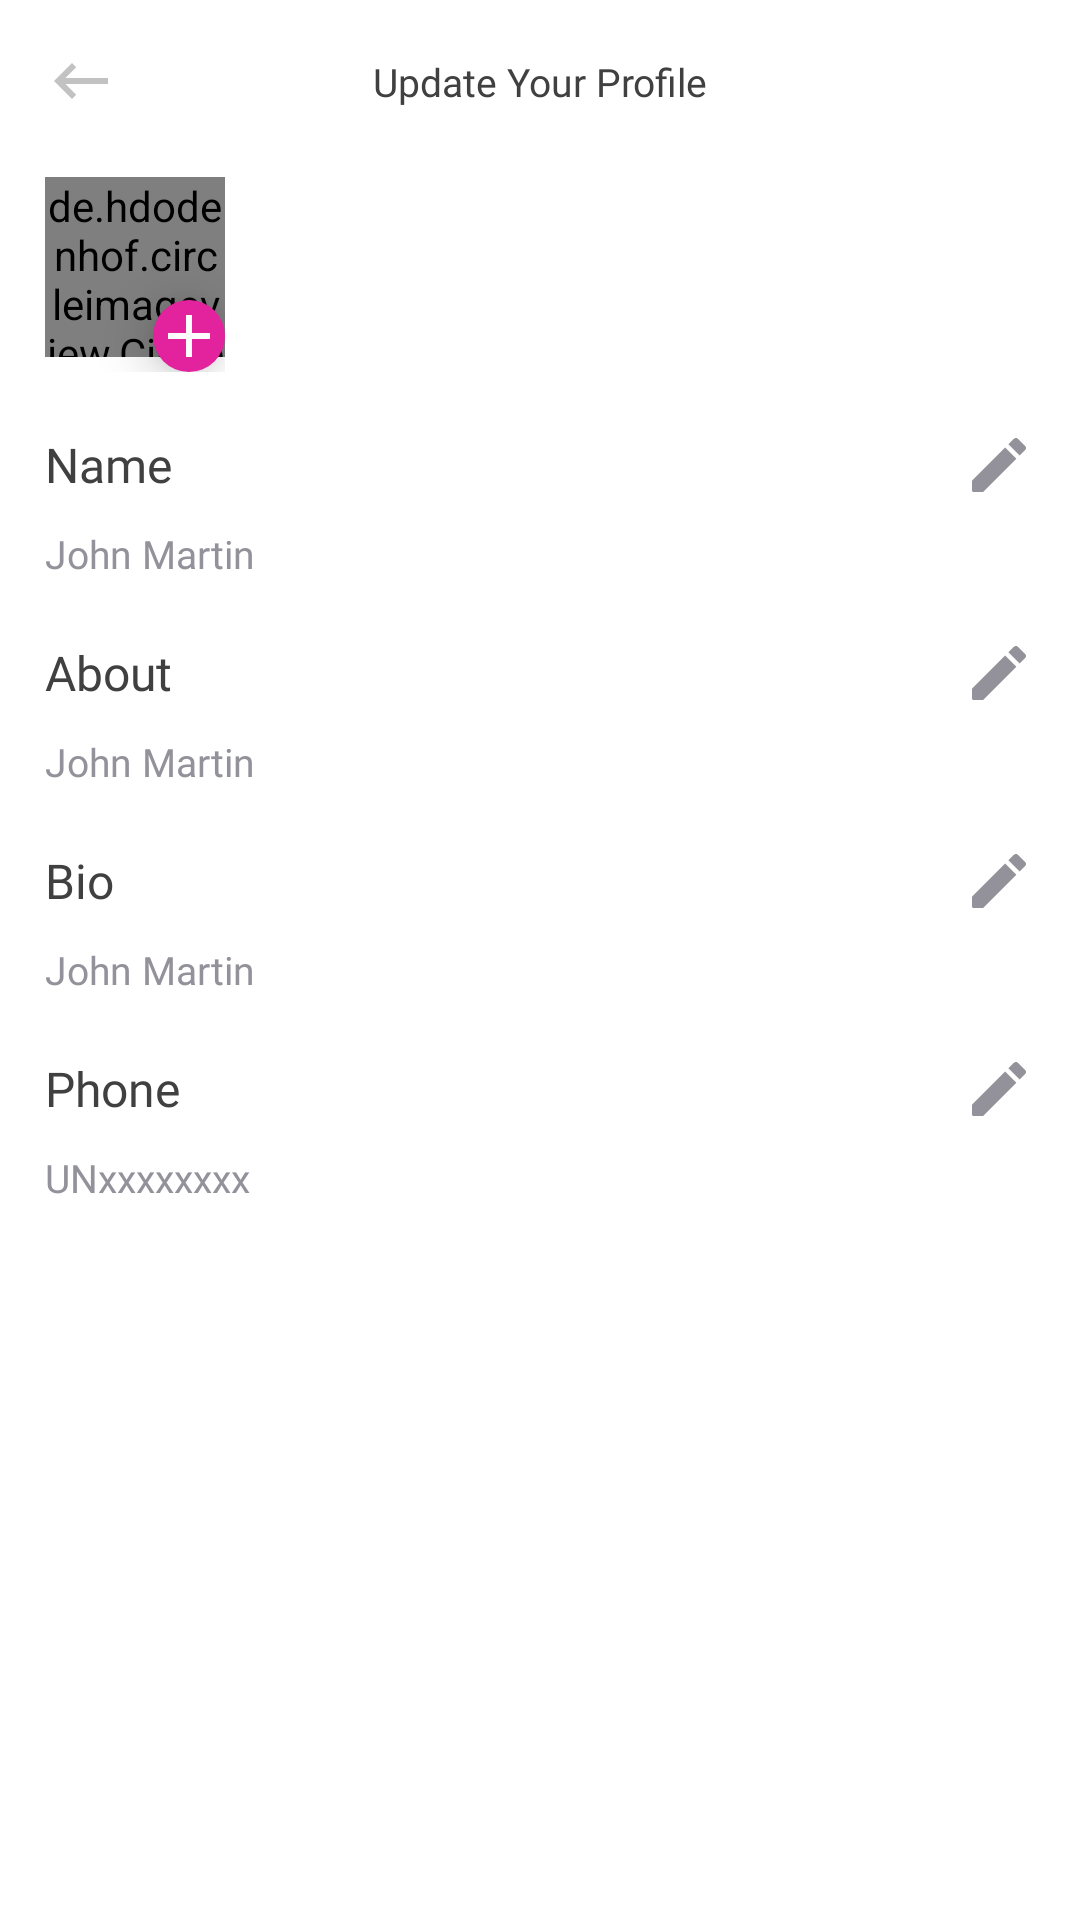

Point at icon controls on the screen. Image size 1080x1920, points as (x=x, y=y).
add: (x=189, y=336)
